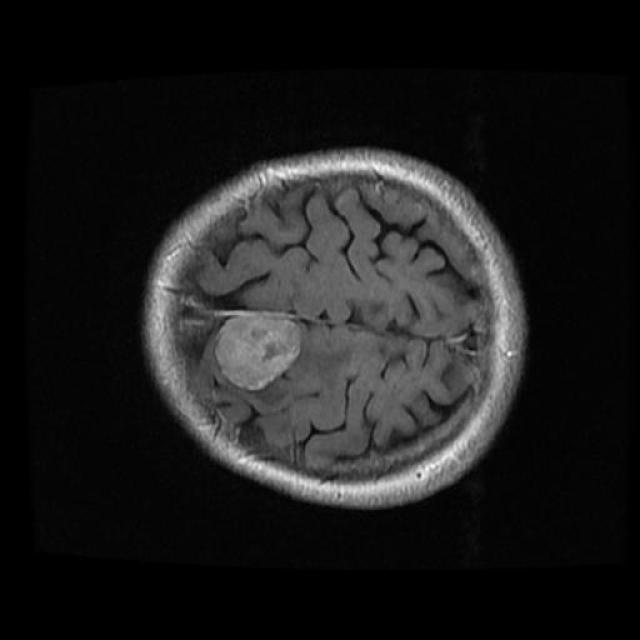Meningioma: (214, 316, 301, 391)
